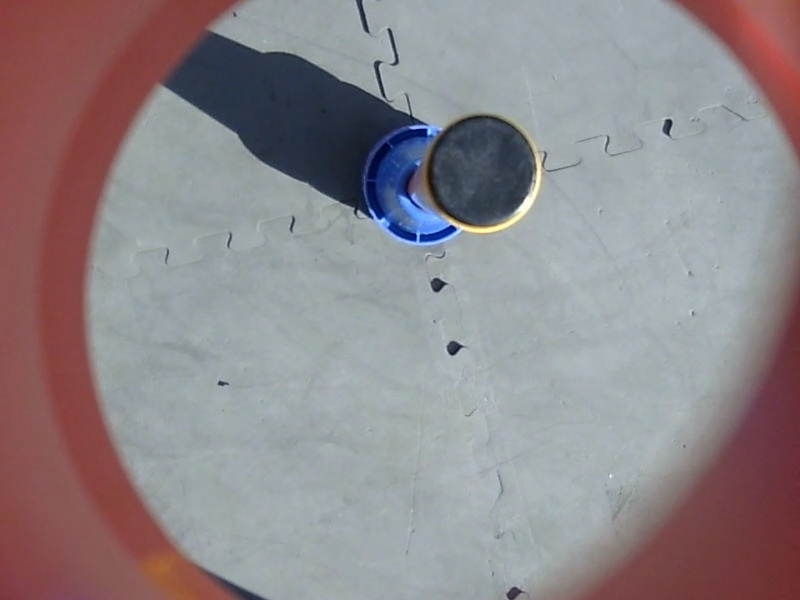tip: (417, 108, 548, 241)
